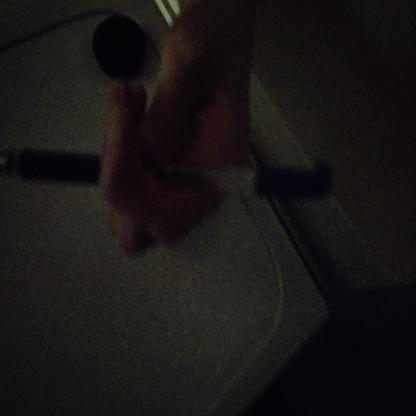Pen: (0, 143, 350, 230)
